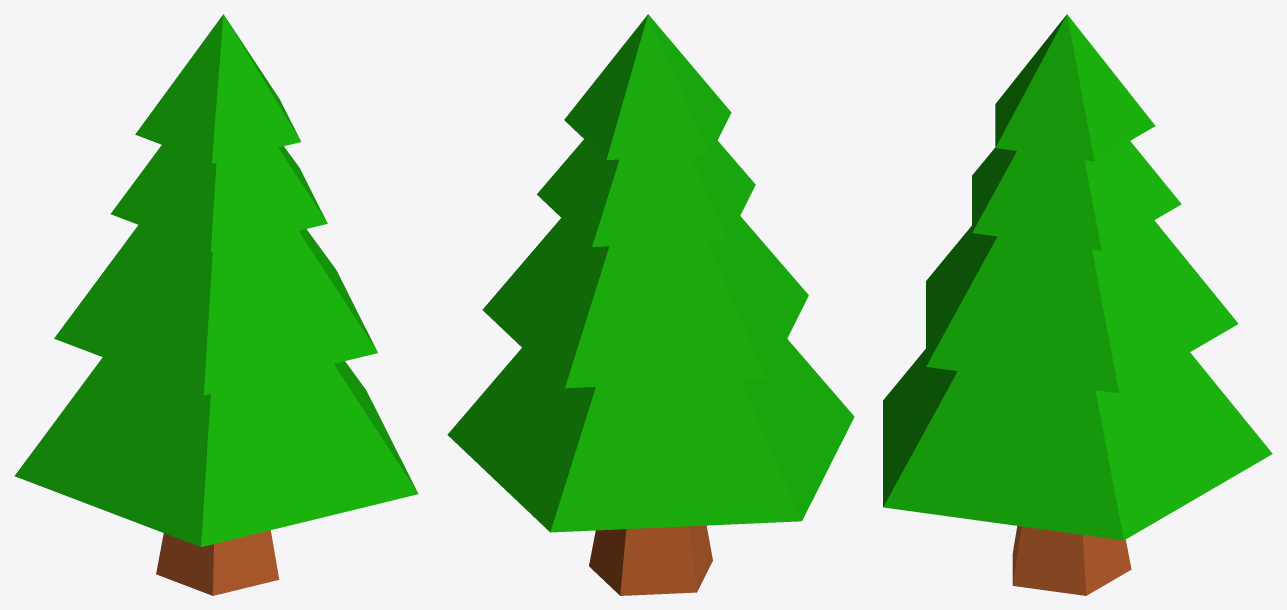
Rendered from tree1.dae.
The picture shows the model from 3 angles, left to right: view 1: azimuth 30°, elevation 25°; view 2: azimuth 150°, elevation 25°; view 3: azimuth 270°, elevation 25°; orthographic projection.
Visible parts, largest first — view 1: Tree1; view 2: Tree1; view 3: Tree1.
Part boxes in pixels (<box>): Tree1: <box>14,14,418,595</box>; Tree1: <box>447,14,854,595</box>; Tree1: <box>883,14,1272,595</box>.
Size of the model in its own units: 1.9 by 1.81 by 2.86.
